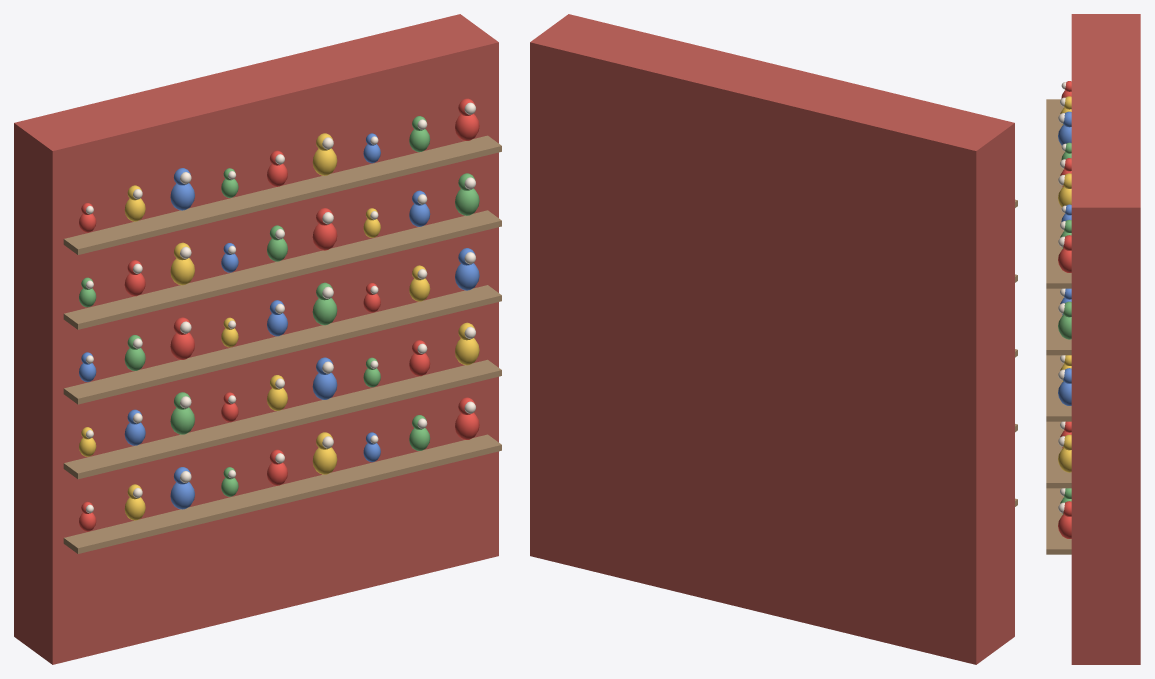
The model's file is doll_shelf.glb.
3 views of the same model, side by side, from view 1: azimuth 30°, elevation 25°; view 2: azimuth 150°, elevation 25°; view 3: azimuth 270°, elevation 25° (orthographic). The views are drawn at different scales.
Parts seen in each view (by area): view 1: doll_shelf; view 2: doll_shelf; view 3: doll_shelf.
Boxes of the visible parts, x1,y1,x2,y2 form: doll_shelf: (14,14,501,664); doll_shelf: (530,14,1017,664); doll_shelf: (1046,14,1140,664).
Size of the model in its own units: 2 by 2.2 by 0.41.
